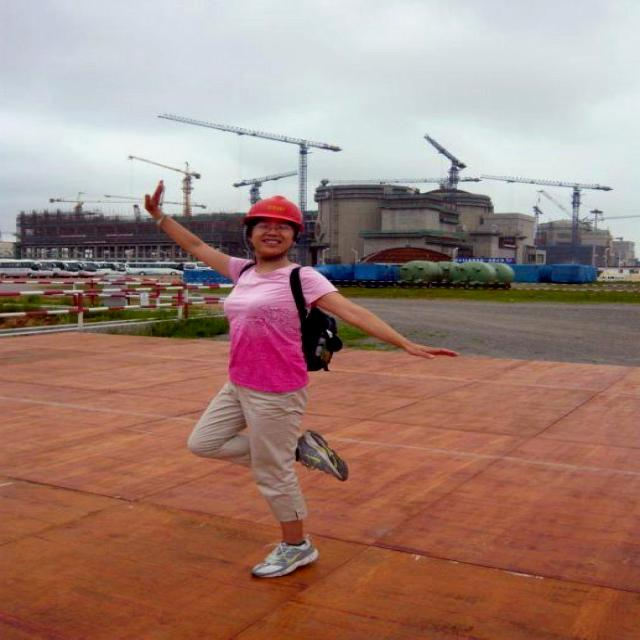face_nomask: (241, 225, 302, 262)
hand_noglove: (386, 329, 459, 376), (135, 172, 183, 232)
head_helmet: (232, 183, 330, 232)
person: (124, 154, 411, 584)
shoes: (293, 427, 353, 485), (248, 532, 320, 580)
